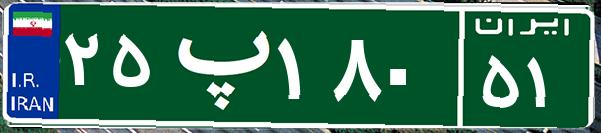0: (385, 28, 445, 110)
1: (273, 28, 330, 110), (525, 38, 570, 115)
2: (57, 26, 110, 107)
5: (475, 38, 525, 113), (110, 28, 158, 105)
8: (330, 28, 385, 110)
پ: (158, 15, 273, 115)
